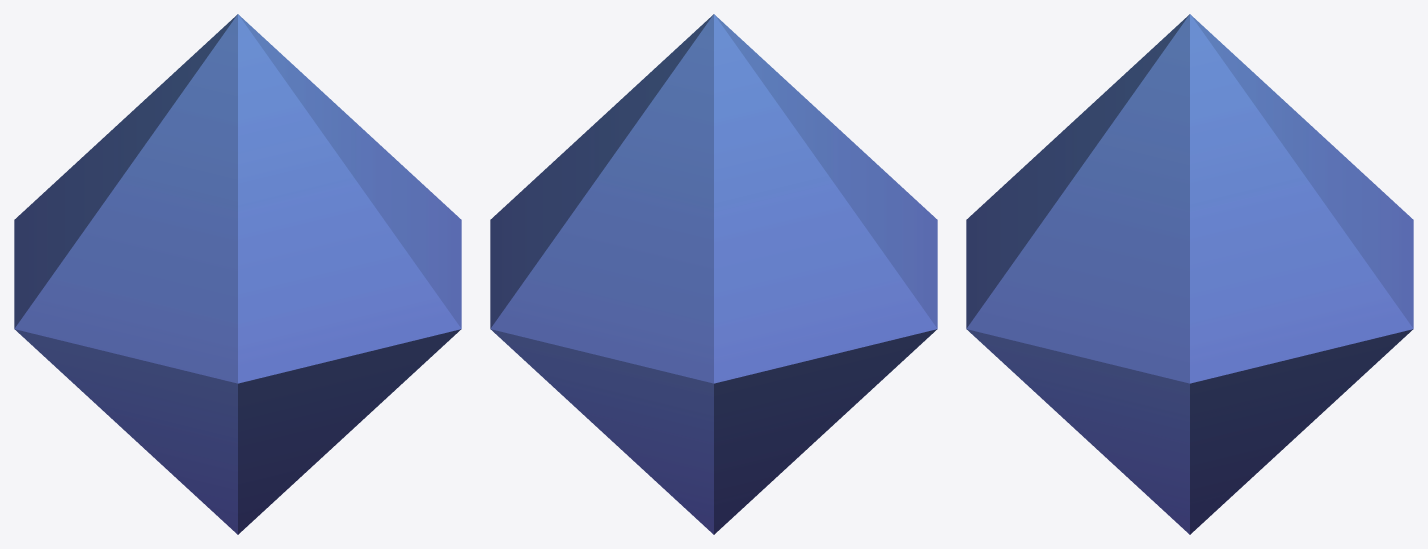
File: kenney-platformer-jewel.glb
3 renders of one model, left to right at view 1: azimuth 30°, elevation 25°; view 2: azimuth 150°, elevation 25°; view 3: azimuth 270°, elevation 25°, orthographic.
Visible parts, largest first — view 1: jewel; view 2: jewel; view 3: jewel.
Boxes of the visible parts, x1,y1,x2,y2 form: jewel: (14,14,461,534); jewel: (490,14,937,534); jewel: (966,14,1413,534).
Bounding box in the file's own units: 0.3329 × 0.3705 × 0.2883.
1 material, 1 textured.
